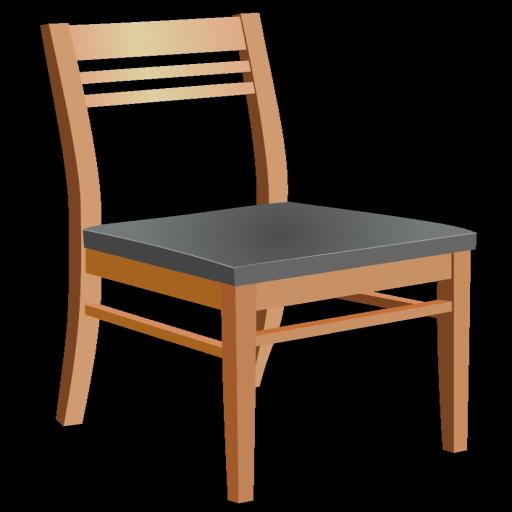chair: (41, 12, 477, 504)
